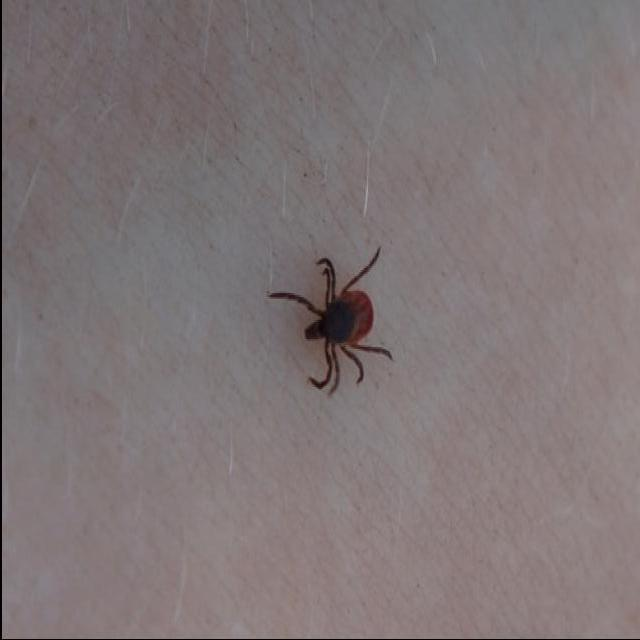Ixodes Ricinus-F: (266, 252, 388, 396)
